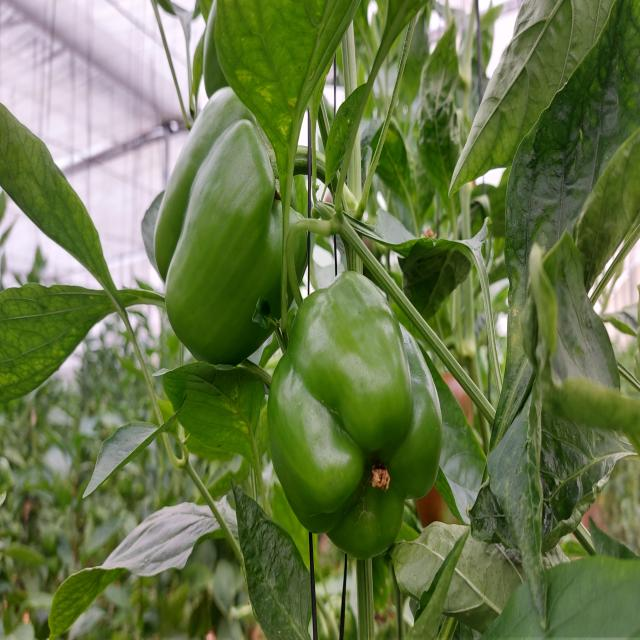Green--Not-ready-to-harvest: (267, 274, 444, 567), (153, 84, 315, 364)
